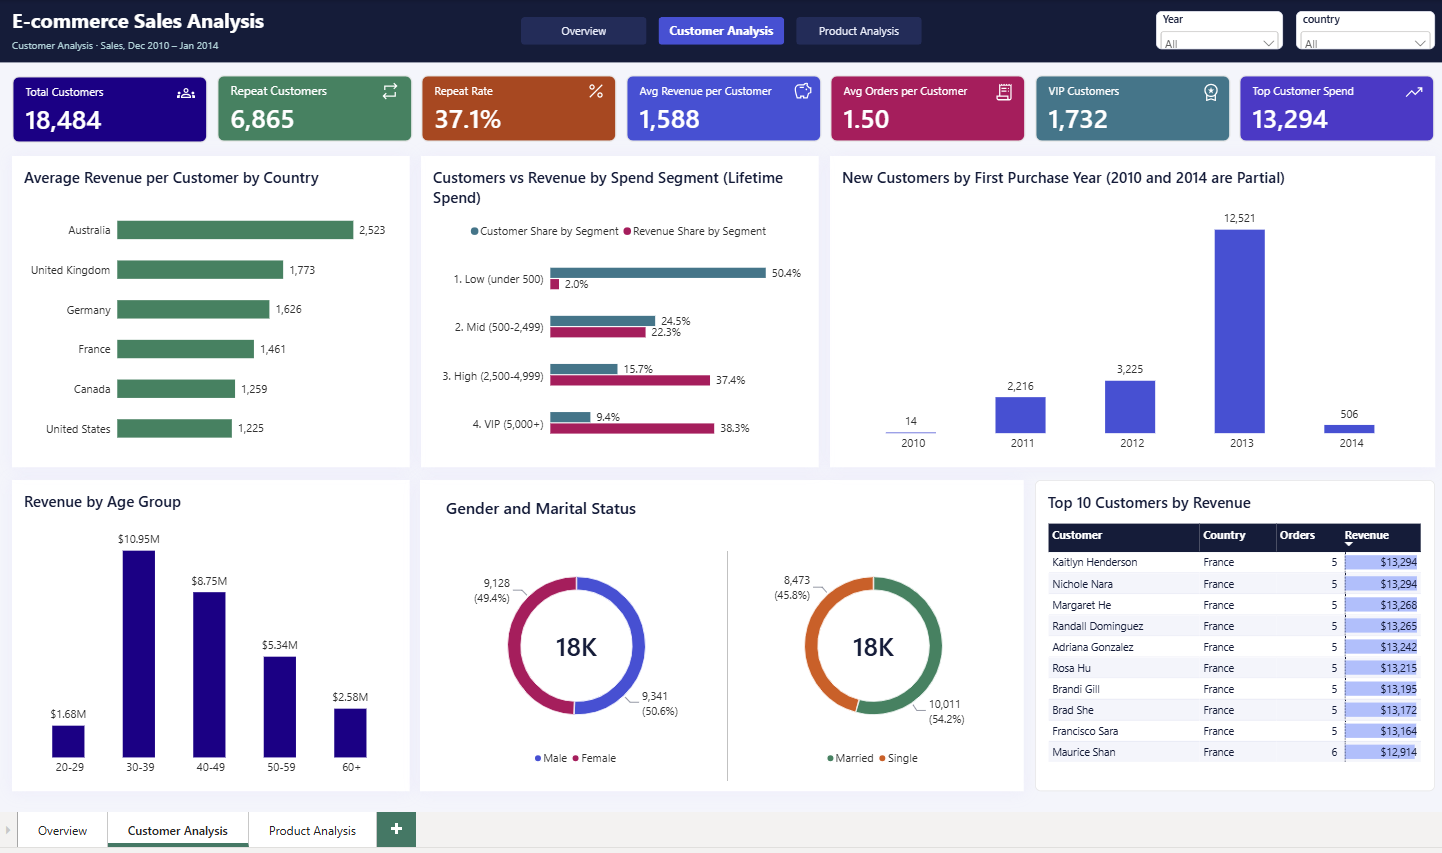

This screenshot's page, from the dashboard's own definition file:
{"tool":"powerbi","page":{"name":"Customer Analysis","canvas":[1920,1080],"ordinal":1},"visuals":[{"type":"clusteredColumnChart","title":"Sales  by Country","fields":{"Category":["dim_customers.country"],"Y":["fact_sales.Total Sales"]},"box":[34.8,182.6,906.5,426.1],"z":0},{"type":"donutChart","title":"Customers by Gender","fields":{"Category":["dim_customers.gender"],"Y":["fact_sales.Total Customers"]},"box":[971.7,182.6,906.5,426.1],"z":1000},{"type":"donutChart","title":"Customers by Marital Status","fields":{"Category":["dim_customers.marital_status"],"Y":["fact_sales.Total Customers"]},"box":[971.7,632.6,906.5,426.1],"z":2000},{"type":"tableEx","title":"Customer Details Table","fields":{"Values":["dim_customers.full_name","dim_customers.country","dim_customers.gender","dim_customers.marital_status","fact_sales.Total Sales"]},"box":[34.8,632.6,906.5,426.1],"z":3000},{"type":"shape","box":[34.8,0,1843.5,150],"z":4000},{"type":"textbox","box":[441.3,26.1,984.8,82.6],"z":5000}]}

Visuals, with their boxes on the page's 1920x1080 design canvas (x1, y1, x2, y2). These are canvas units, not pixel positions in the 1442x853 screenshot, which may show the page scaled, cropped or inside an application window:
"Sales  by Country" clusteredColumnChart: (x1=35, y1=183, x2=941, y2=609)
"Customers by Gender" donutChart: (x1=972, y1=183, x2=1878, y2=609)
"Customers by Marital Status" donutChart: (x1=972, y1=633, x2=1878, y2=1059)
"Customer Details Table" tableEx: (x1=35, y1=633, x2=941, y2=1059)
shape: (x1=35, y1=0, x2=1878, y2=150)
textbox: (x1=441, y1=26, x2=1426, y2=109)
